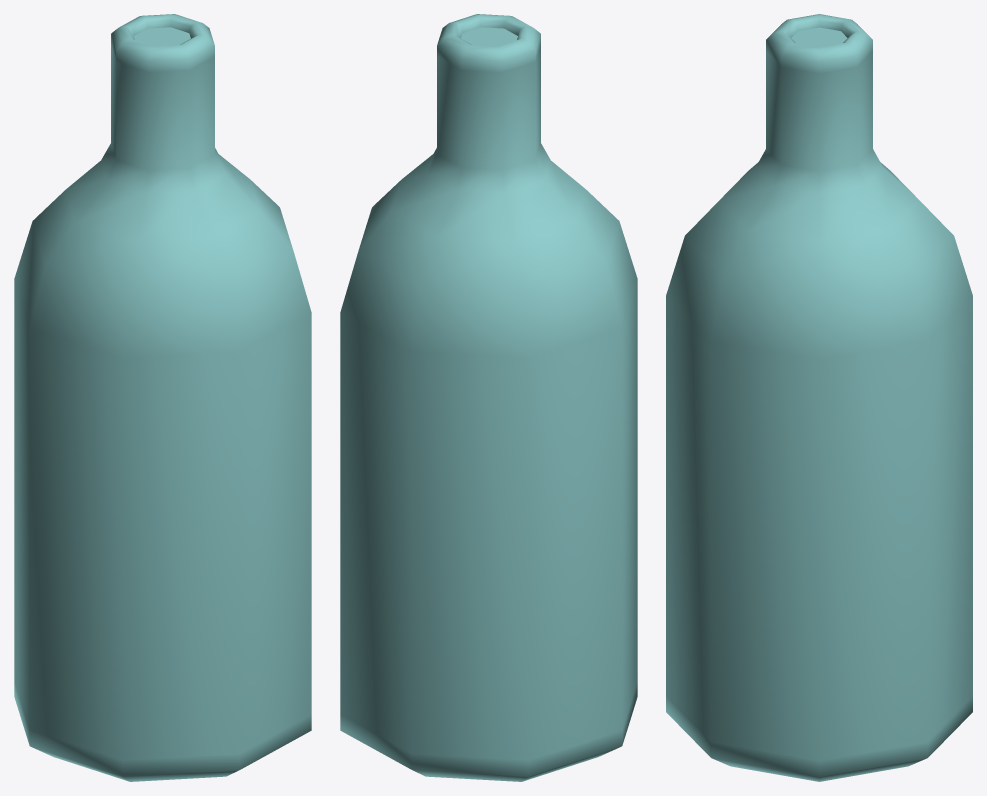
The model's file is bottle-1.fbx.
3 renders of one model, left to right at view 1: azimuth 30°, elevation 25°; view 2: azimuth 150°, elevation 25°; view 3: azimuth 270°, elevation 25°, orthographic.
Parts seen in each view (by area): view 1: Bottle; view 2: Bottle; view 3: Bottle.
Boxes of the visible parts, x1,y1,x2,y2 form: Bottle: (14, 14, 311, 781); Bottle: (340, 14, 637, 781); Bottle: (666, 14, 972, 781).
Bounding box in the file's own units: 13.6 × 34.12 × 13.6.
